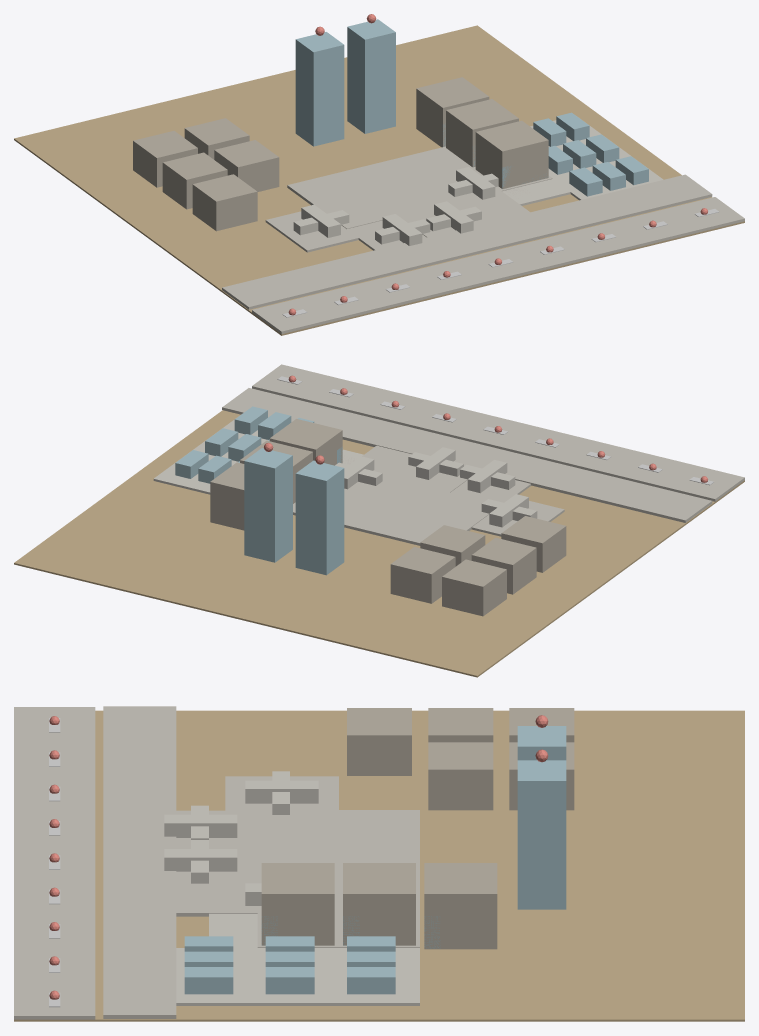
File: stage_23.glb
The picture shows the model from 3 angles, top to bottom: view 1: azimuth 30°, elevation 25°; view 2: azimuth 150°, elevation 25°; view 3: azimuth 270°, elevation 25°; orthographic projection. The views are drawn at different scales.
Visible parts, largest first — view 1: geometry_0; view 2: geometry_0; view 3: geometry_0.
Boxes of the visible parts, <box> form: geometry_0: <box>14,14,744,335</box>; geometry_0: <box>14,364,744,677</box>; geometry_0: <box>14,706,744,1021</box>.
Bounding box in the file's own units: 9 × 2.06 × 9.
